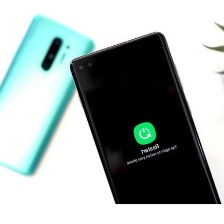phone: (66, 25, 224, 224), (0, 9, 101, 182)
